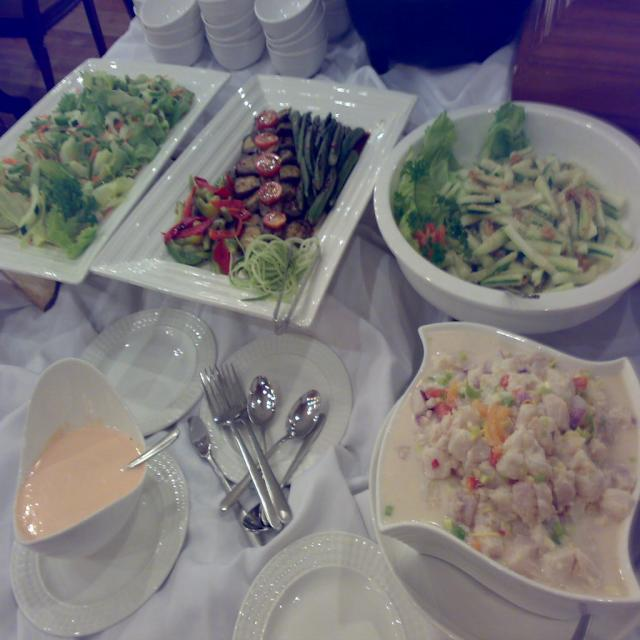non-organic waste: (365, 86, 640, 333)
